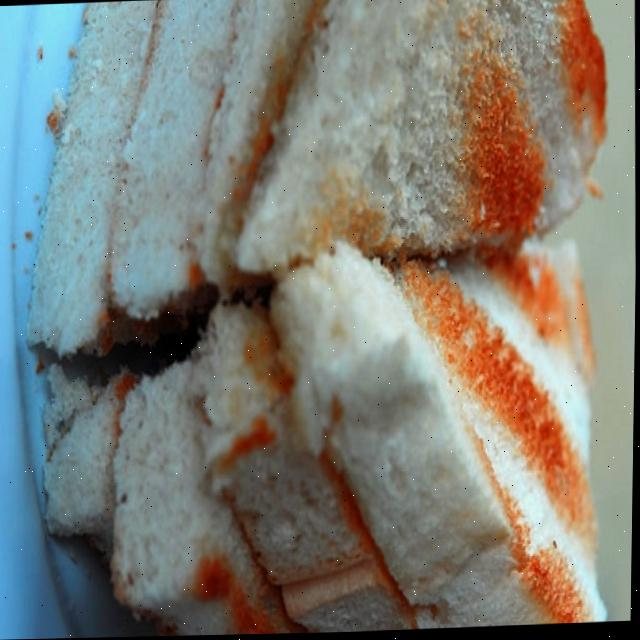面包点心: (8, 0, 639, 640)
